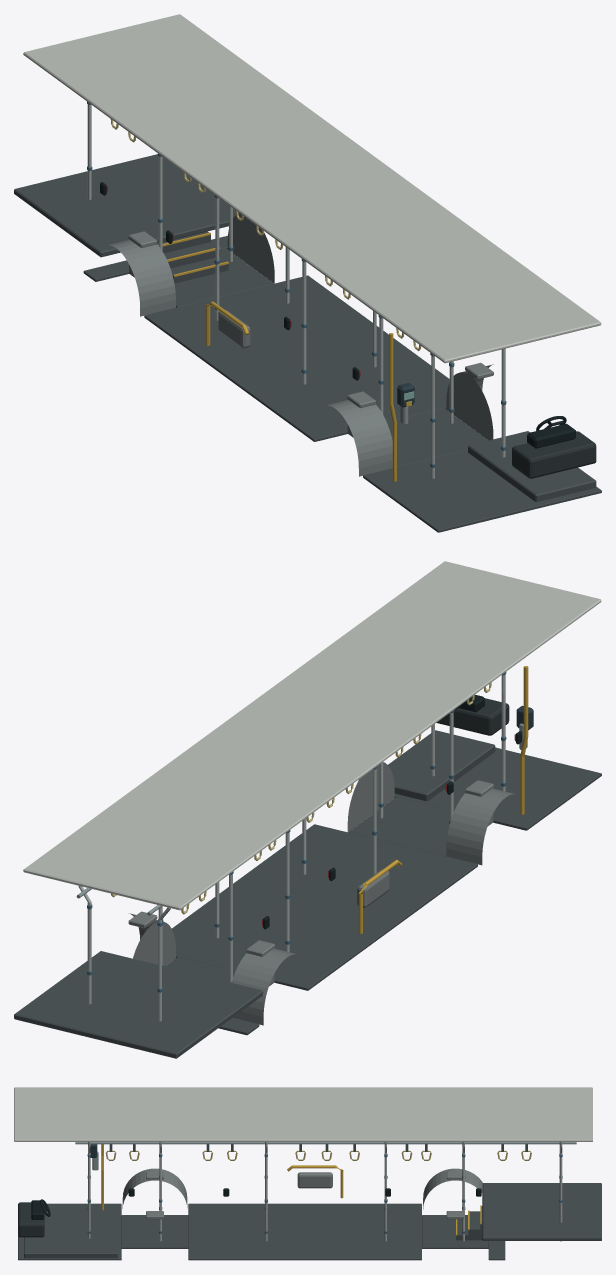
Rendered from cabin.glb.
3 views of the same model, one above another, from view 1: azimuth 30°, elevation 25°; view 2: azimuth 150°, elevation 25°; view 3: azimuth 270°, elevation 25° (orthographic). The views are drawn at different scales.
Visible parts, largest first — view 1: PassengerCabin; view 2: PassengerCabin; view 3: PassengerCabin.
Boxes of the visible parts, x1,y1,x2,y2 form: PassengerCabin: (14, 14, 601, 532); PassengerCabin: (14, 561, 601, 1058); PassengerCabin: (14, 1087, 601, 1260).
Bounding box in the file's own units: 2.43 × 2.37 × 10.57.
